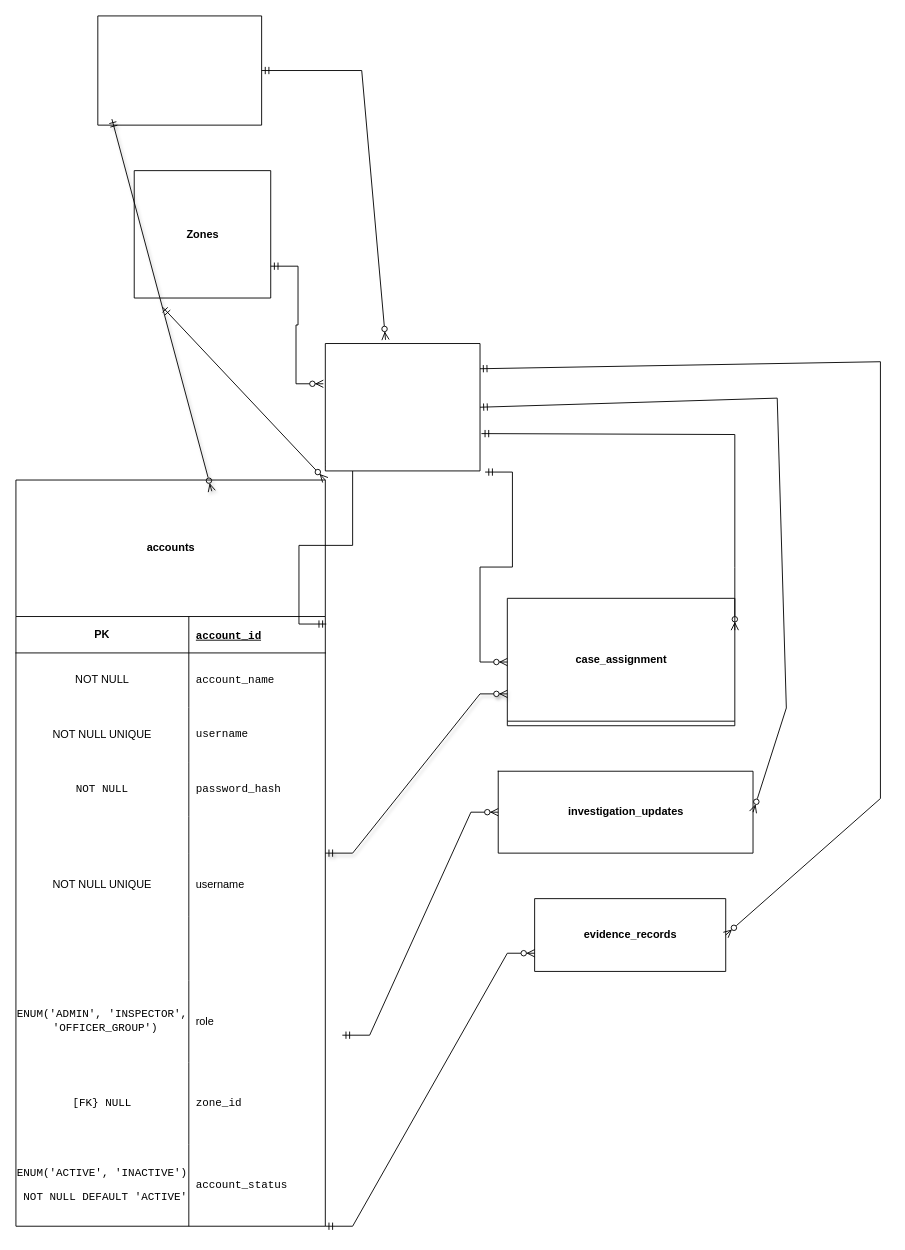
Image size: 905x1250. Some labels were removed from this diagram. Here are the shapes that lost their labels. From the top down, the centre of each, then its label:
[179,70]: crime_categories
[402,407]: cases
